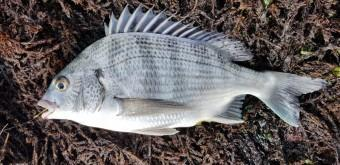fish: (35, 5, 329, 136)
